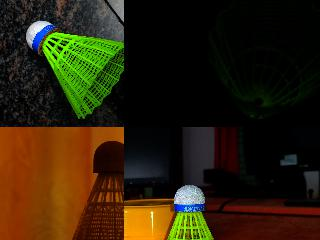shuttlecock: (208, 0, 319, 126), (26, 20, 123, 119), (66, 140, 123, 239), (153, 184, 230, 239)
